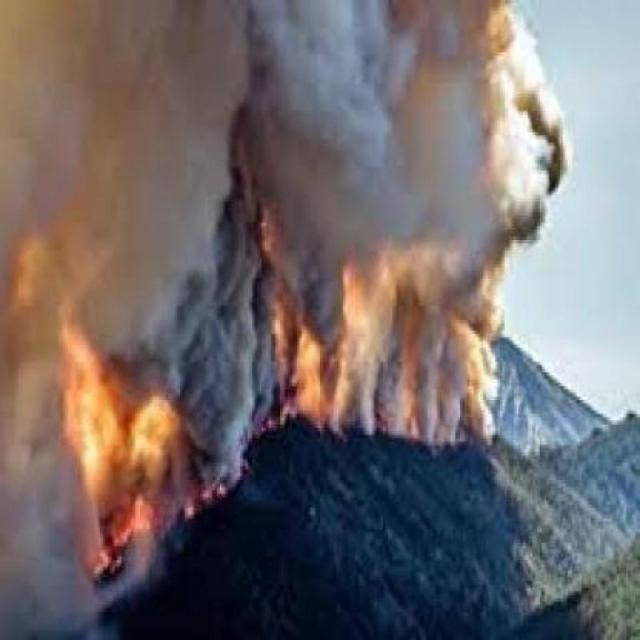Fire: (86, 444, 240, 612)
Smoke: (0, 0, 500, 442)
